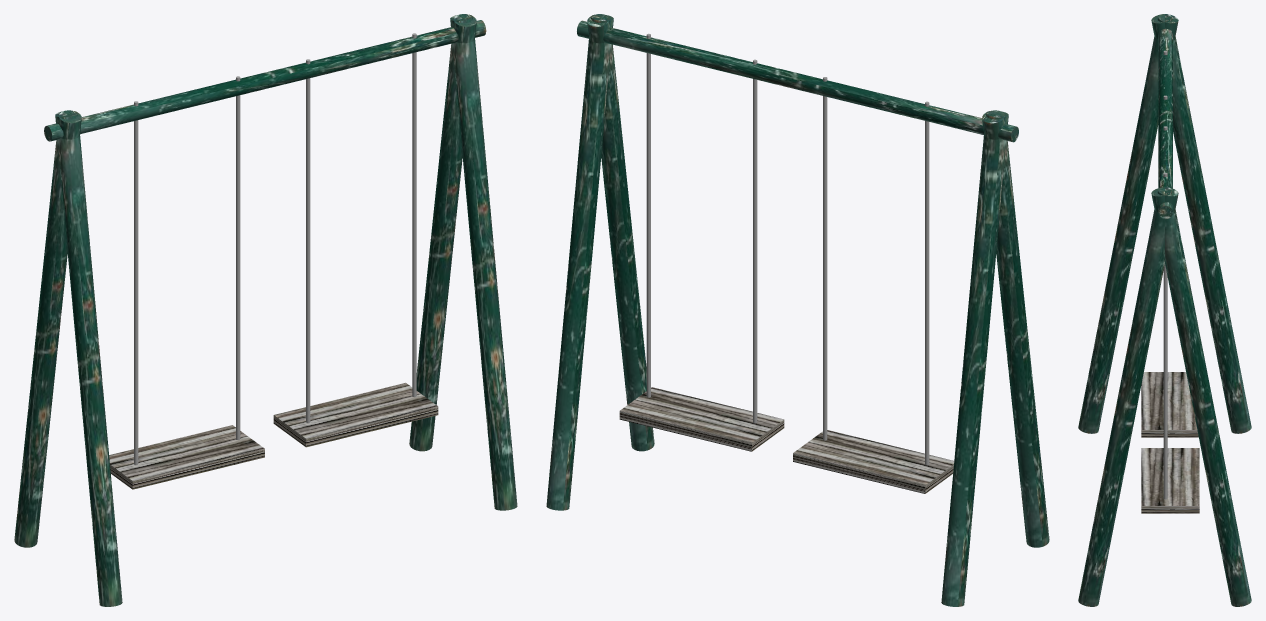
The model's file is baloiço.fbx.
The picture shows the model from 3 angles, left to right: view 1: azimuth 30°, elevation 25°; view 2: azimuth 150°, elevation 25°; view 3: azimuth 270°, elevation 25°; orthographic projection. The views are drawn at different scales.
Visible parts, largest first — view 1: pCylinder4, pCylinder2, pCylinder1, pCylinder3, pCylinder5, pCube7, pCube6, pCylinder7, pCylinder8, pCylinder6, pCylinder9; view 2: pCylinder3, pCylinder1, pCylinder2, pCylinder4, pCylinder5, pCube7, pCube6, pCylinder8, pCylinder6, pCylinder9, pCylinder7; view 3: pCylinder3, pCylinder4, pCylinder2, pCylinder1, pCube7, pCube6, pCylinder5, pCylinder9.
Boxes of the visible parts, box(x1,y1,x2,y2) form: pCylinder4: box(450, 15, 517, 510); pCylinder2: box(55, 111, 122, 606); pCylinder1: box(14, 110, 81, 547); pCylinder3: box(409, 14, 476, 451); pCylinder5: box(44, 20, 486, 141); pCube7: box(273, 382, 438, 447); pCube6: box(109, 425, 264, 489); pCylinder7: box(236, 76, 240, 439); pCylinder8: box(306, 59, 310, 422); pCylinder6: box(134, 101, 138, 464); pCylinder9: box(412, 33, 416, 396); pCylinder3: box(546, 15, 613, 510); pCylinder1: box(941, 111, 1008, 606); pCylinder2: box(982, 110, 1049, 547); pCylinder4: box(587, 14, 654, 451); pCylinder5: box(577, 20, 1018, 142); pCube7: box(619, 387, 784, 451); pCube6: box(793, 430, 954, 493); pCylinder8: box(753, 59, 757, 423); pCylinder6: box(925, 101, 929, 465); pCylinder9: box(646, 33, 650, 397); pCylinder7: box(823, 77, 827, 440); pCylinder3: box(1151, 187, 1251, 606); pCylinder4: box(1078, 187, 1178, 606); pCylinder2: box(1078, 14, 1178, 433); pCylinder1: box(1151, 14, 1251, 433); pCube7: box(1141, 448, 1199, 513); pCube6: box(1141, 372, 1198, 437); pCylinder5: box(1158, 28, 1172, 219); pCylinder9: box(1163, 172, 1167, 499).
Bounding box in the file's own units: 5.78 × 5.86 × 2.23.
